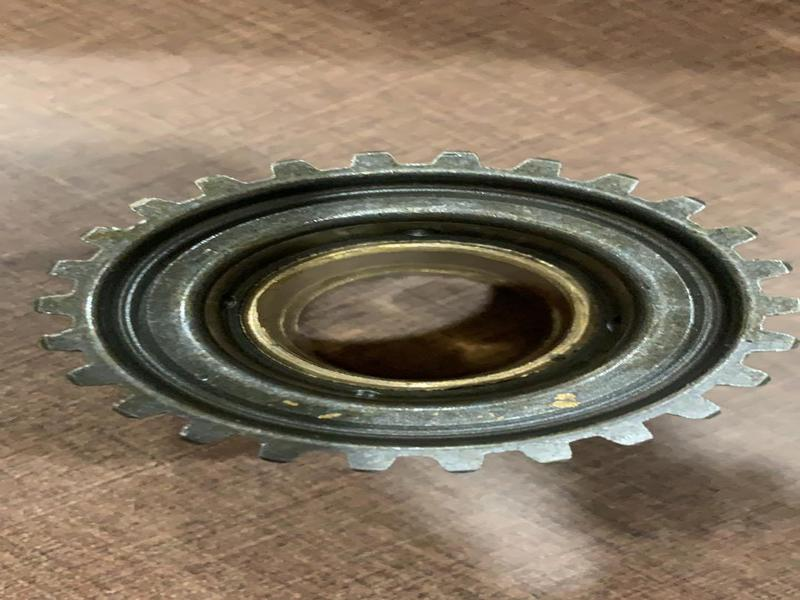engine gear alfa: (34, 109, 800, 522)
